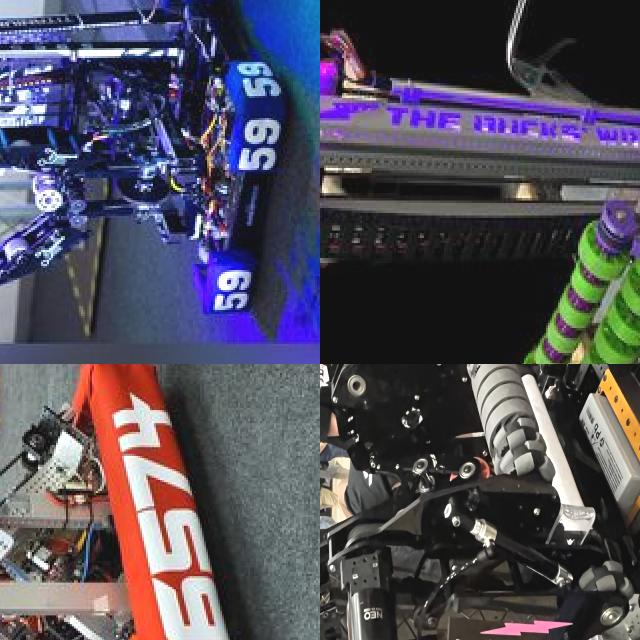FRC-Robots: (320, 0, 640, 364), (0, 0, 285, 364), (320, 364, 640, 640), (0, 364, 260, 640)
